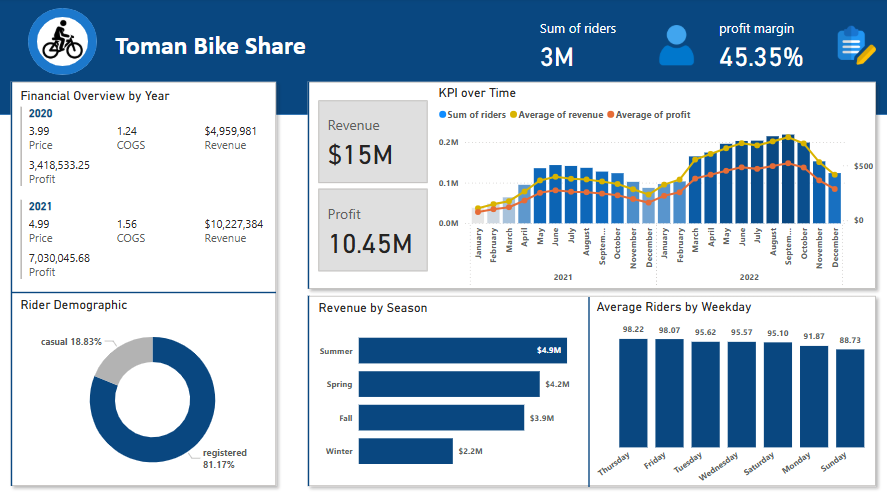

Layout of this report page (visuals, bound fields, positions):
{"tool":"powerbi","page":{"name":"Page 1","canvas":[1280,720],"ordinal":0},"visuals":[{"type":"cardVisual","fields":{"Data":["Min(Query1.riders)"]},"box":[427.7,411.8,852.5,308.2],"z":0},{"type":"shape","box":[0,0,1280.2,168.5],"z":1000},{"type":"cardVisual","fields":{"Data":["Min(Query1.riders)"]},"box":[0,103.7,416.2,616.3],"z":2000},{"type":"columnChart","title":"Average Riders by Weekday","fields":{"Category":["Query1.WeekdayName"],"Y":["Avg(Query1.riders)"]},"box":[855.4,433.4,417.6,283.7],"z":3000},{"type":"cardVisual","fields":{"Data":["Min(Query1.riders)"]},"box":[427.7,103.7,852.5,332.6],"z":4000},{"type":"textbox","box":[154.1,40.3,301,60.5],"z":5000},{"type":"lineClusteredColumnComboChart","title":"KPI over Time ","fields":{"Category":["Query1.dteday.Variation.Date Hierarchy.Year","Query1.dteday.Variation.Date Hierarchy.Month","Query1.dteday.Variation.Date Hierarchy.Day"],"Y":["Sum(Query1.riders)"],"Y2":["Avg(Query1.revenue)","Avg(Query1.profit)"]},"box":[627.8,125.3,636.5,299.5],"z":6000},{"type":"clusteredBarChart","title":"Revenue by Season","fields":{"Category":["Query1.season"],"Y":["Sum(Query1.revenue)"]},"box":[455,434.9,398.9,262.1],"z":7000},{"type":"cardVisual","title":"KPI over Time ","fields":{"Data":["Sum(Query1.revenue)","Sum(Query1.profit)"]},"box":[455,142.6,167,256.3],"z":8000},{"type":"cardVisual","fields":{"Data":["Sum(Query1.riders)","Query1.profit margin"]},"box":[761.8,13,518.4,96.5],"z":9000},{"type":"shape","box":[41.8,14,99.4,96.5],"z":10000},{"type":"image","box":[57.6,24.1,67.7,69.1],"z":11000},{"type":"shape","box":[830.9,430.6,37.4,273.6],"z":12000},{"type":"shape","box":[17.3,417.6,381.6,13],"z":13000},{"type":"multiRowCard","title":"Financial Overview by Year","fields":{"Values":["Query1.YearText","Avg(Query1.price)","Avg(Query1.COGS)","Sum(Query1.revenue)","Sum(Query1.profit)"]},"box":[25.9,129.6,401.8,301],"z":14000},{"type":"donutChart","title":"Rider Demographic","fields":{"Category":["Query1.rider_type"],"Y":["Sum(Query1.riders)"]},"box":[25.9,430.6,390.2,273.6],"z":15000}]}

Visuals, with their boxes in screenshot pixels (x1, y1, x2, y2), scaled from the page's 1280x720 canvas onto the 887x496 screenshot:
cardVisual - Min(Query1.riders): box(296, 284, 886, 495)
shape: box(0, 0, 886, 116)
cardVisual - Min(Query1.riders): box(0, 71, 288, 495)
"Average Riders by Weekday" columnChart: box(593, 299, 882, 494)
cardVisual - Min(Query1.riders): box(296, 71, 886, 301)
textbox: box(107, 28, 315, 69)
"KPI over Time " lineClusteredColumnComboChart: box(435, 86, 876, 293)
"Revenue by Season" clusteredBarChart: box(315, 300, 592, 480)
"KPI over Time " cardVisual: box(315, 98, 431, 275)
cardVisual - Sum(Query1.riders) x Query1.profit margin: box(528, 9, 886, 75)
shape: box(29, 10, 98, 76)
image: box(40, 17, 87, 64)
shape: box(576, 297, 602, 485)
shape: box(12, 288, 276, 297)
"Financial Overview by Year" multiRowCard: box(18, 89, 296, 297)
"Rider Demographic" donutChart: box(18, 297, 288, 485)
